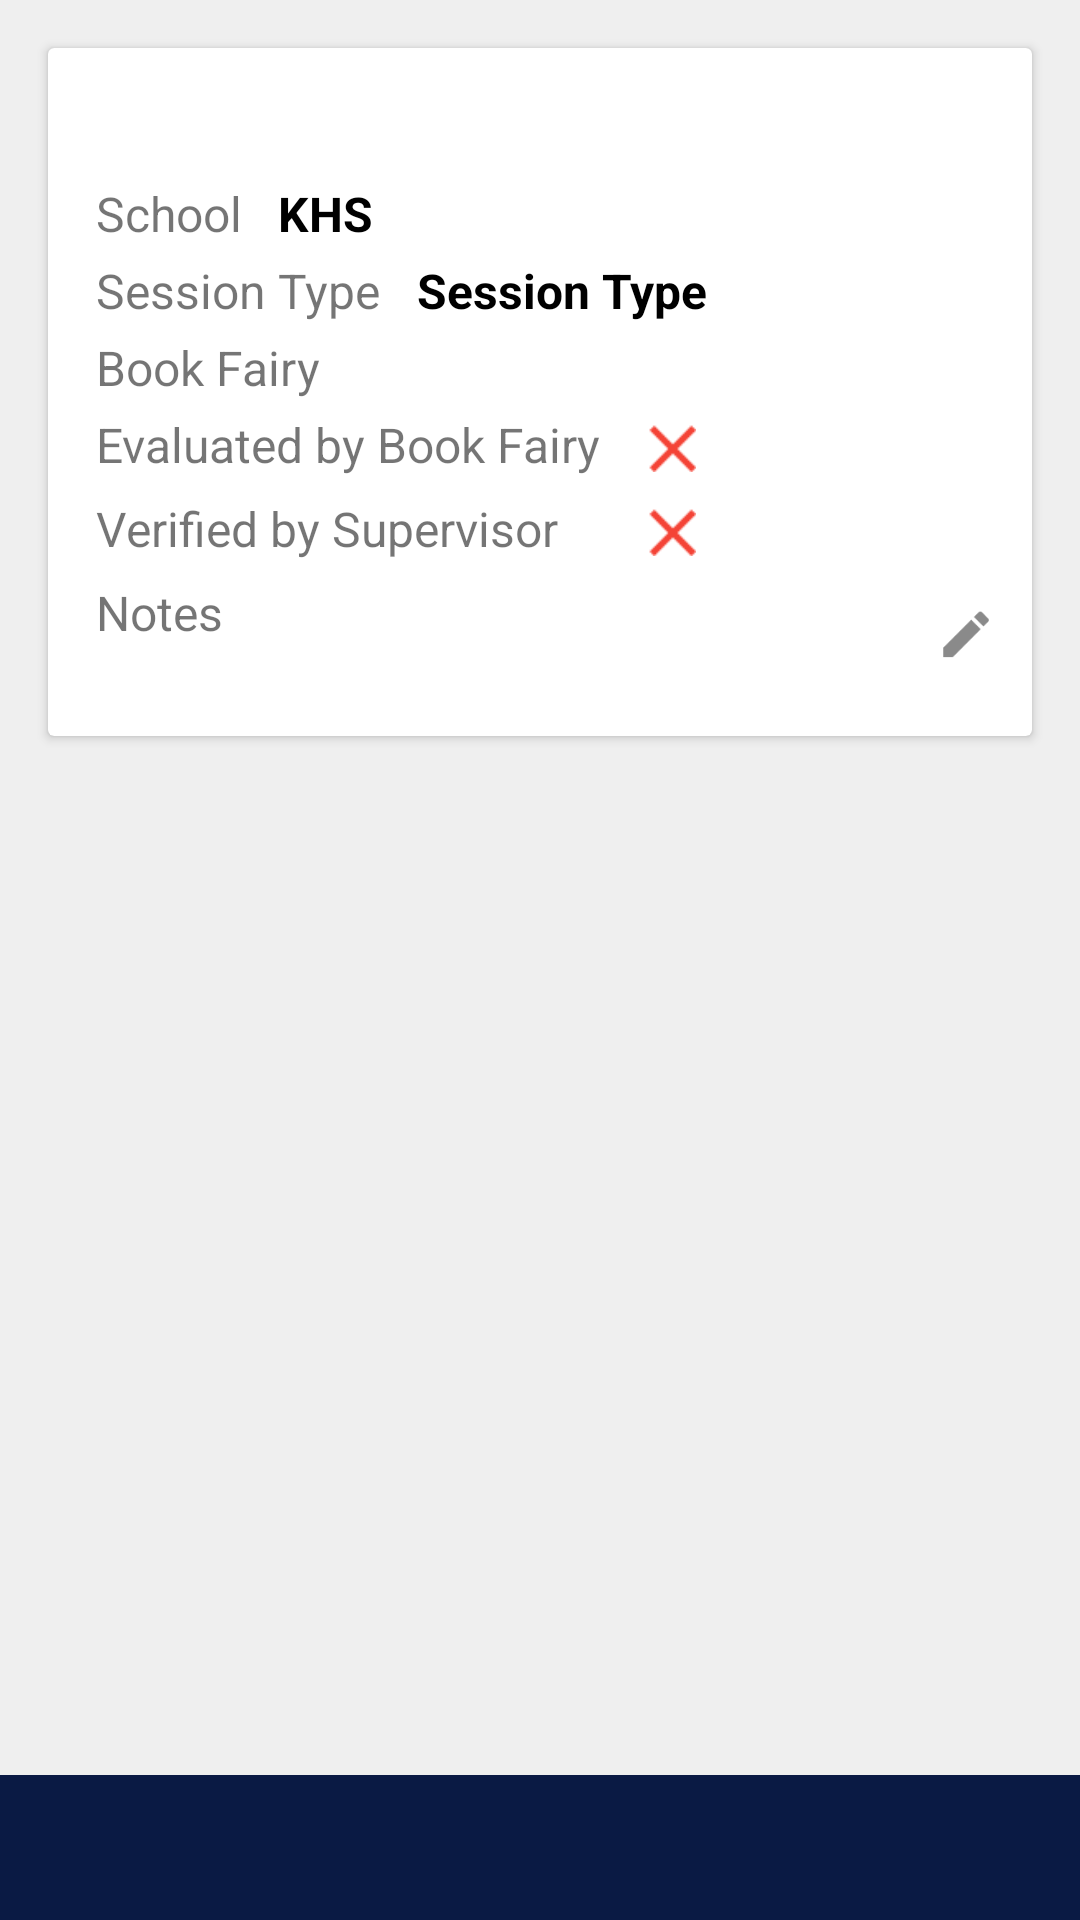

Named icons in this screenshot (1080 x 1920) and their centers, (x,y):
edit: (966,634)
remove: (672,448), (672,532)
